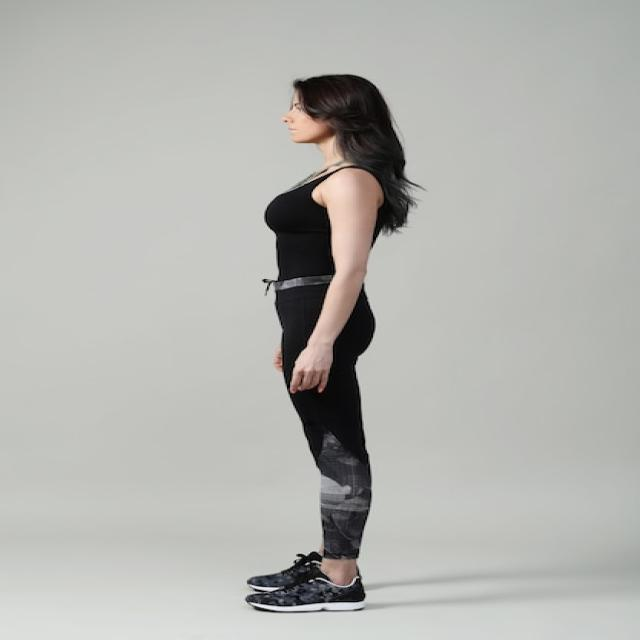Person: (242, 71, 405, 611)
